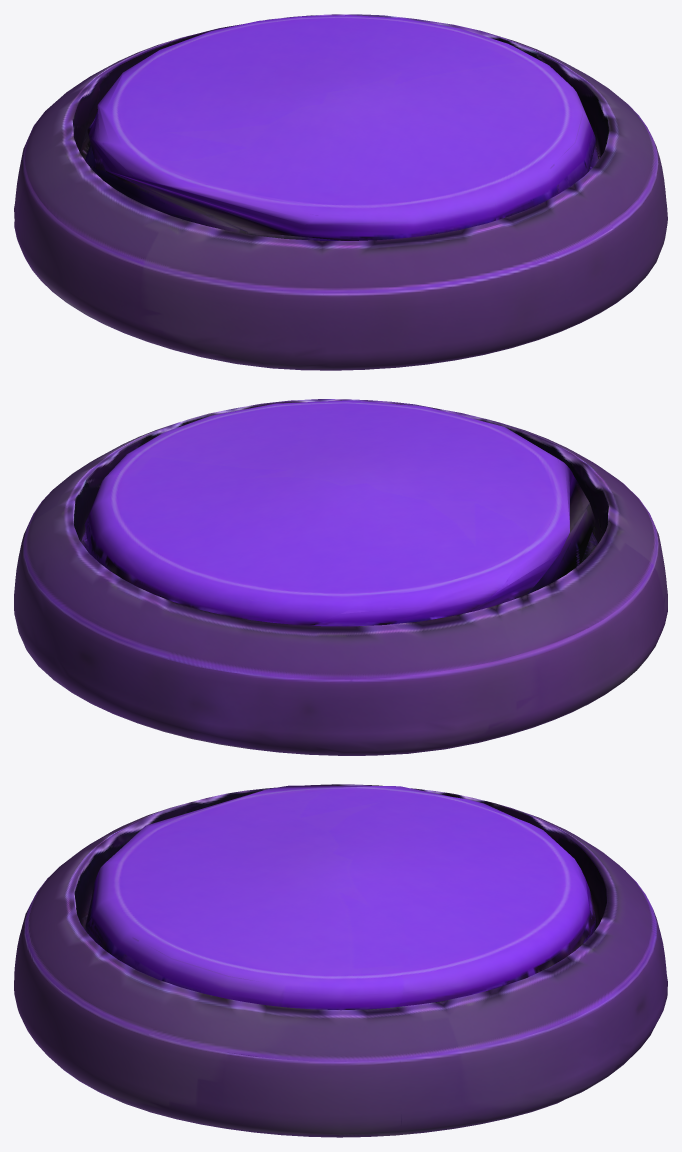
Rendered from Meshy_AI_button_itself_0108132338_texture.fbx.
3 views of the same model, one above another, from view 1: azimuth 30°, elevation 25°; view 2: azimuth 150°, elevation 25°; view 3: azimuth 270°, elevation 25° (orthographic).
Visible parts, largest first — view 1: Mesh0; view 2: Mesh0; view 3: Mesh0.
Part boxes in pixels (x1=…): Mesh0: x1=14, y1=14, x2=667, y2=370; Mesh0: x1=14, y1=399, x2=667, y2=755; Mesh0: x1=14, y1=784, x2=667, y2=1137.
Size of the model in its own units: 190 by 51.68 by 190.
1 material, 1 textured.
